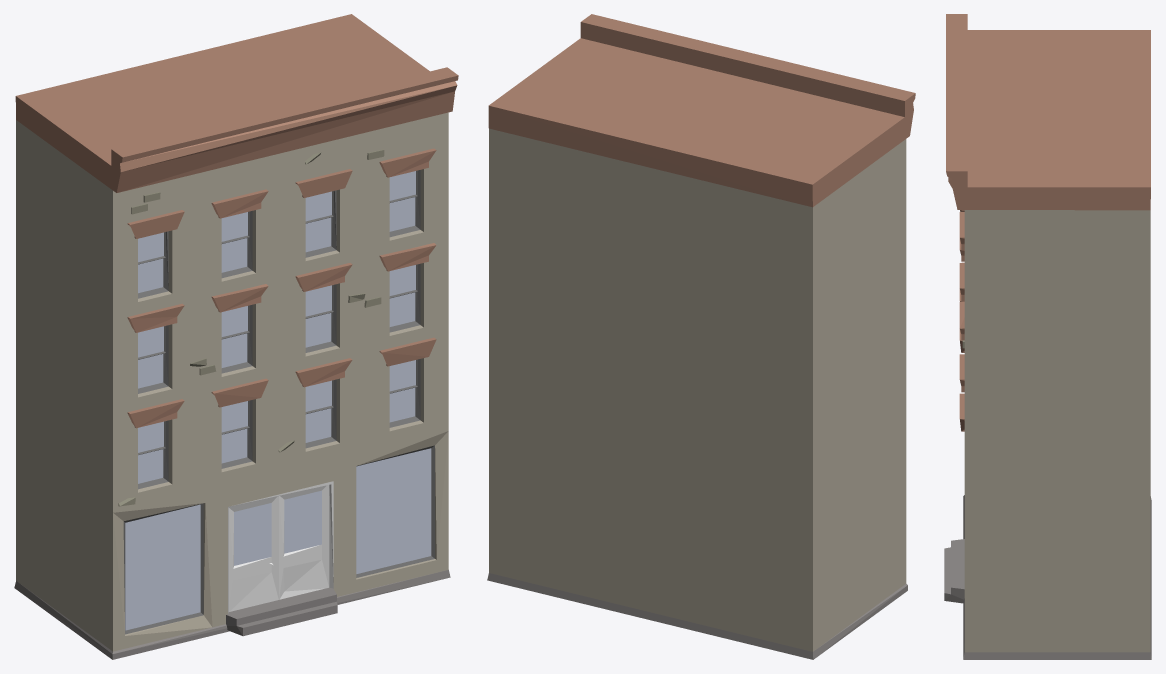
Rendered from building-green.glb.
3 views of the same model, side by side, from view 1: azimuth 30°, elevation 25°; view 2: azimuth 150°, elevation 25°; view 3: azimuth 270°, elevation 25° (orthographic). The views are drawn at different scales.
Parts seen in each view (by area): view 1: BuildingGreen; view 2: BuildingGreen; view 3: BuildingGreen.
Boxes of the visible parts, x1,y1,x2,y2 form: BuildingGreen: (14, 14, 458, 659); BuildingGreen: (487, 14, 915, 659); BuildingGreen: (944, 14, 1151, 659).
Size of the model in its own units: 2.42 by 3.48 by 1.34.
1 material, 1 textured.
